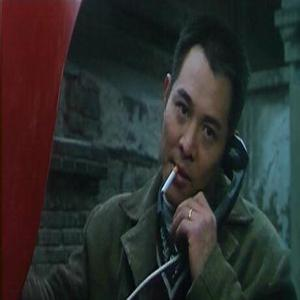cigarette: (160, 165, 178, 195)
